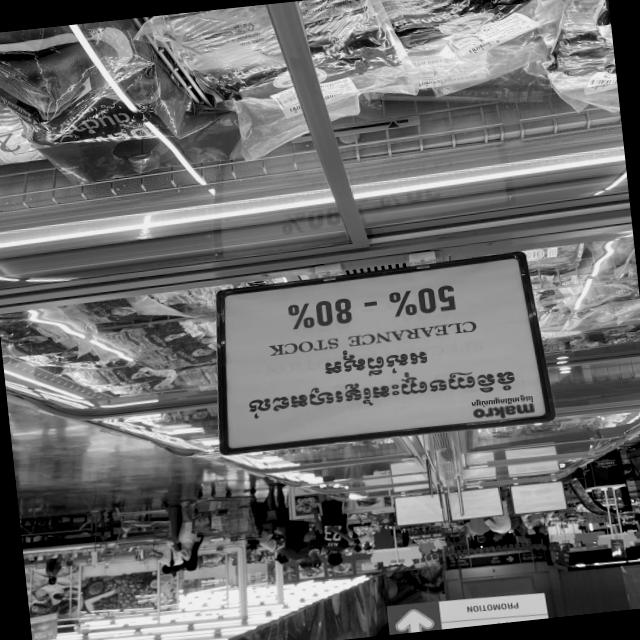Yolov11kh: (240, 358, 525, 424), (311, 338, 433, 382), (464, 391, 537, 410)
